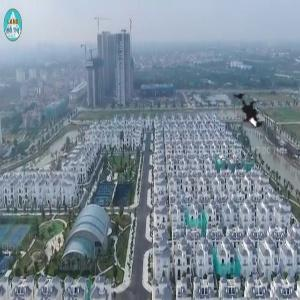drone: (213, 80, 279, 146)
